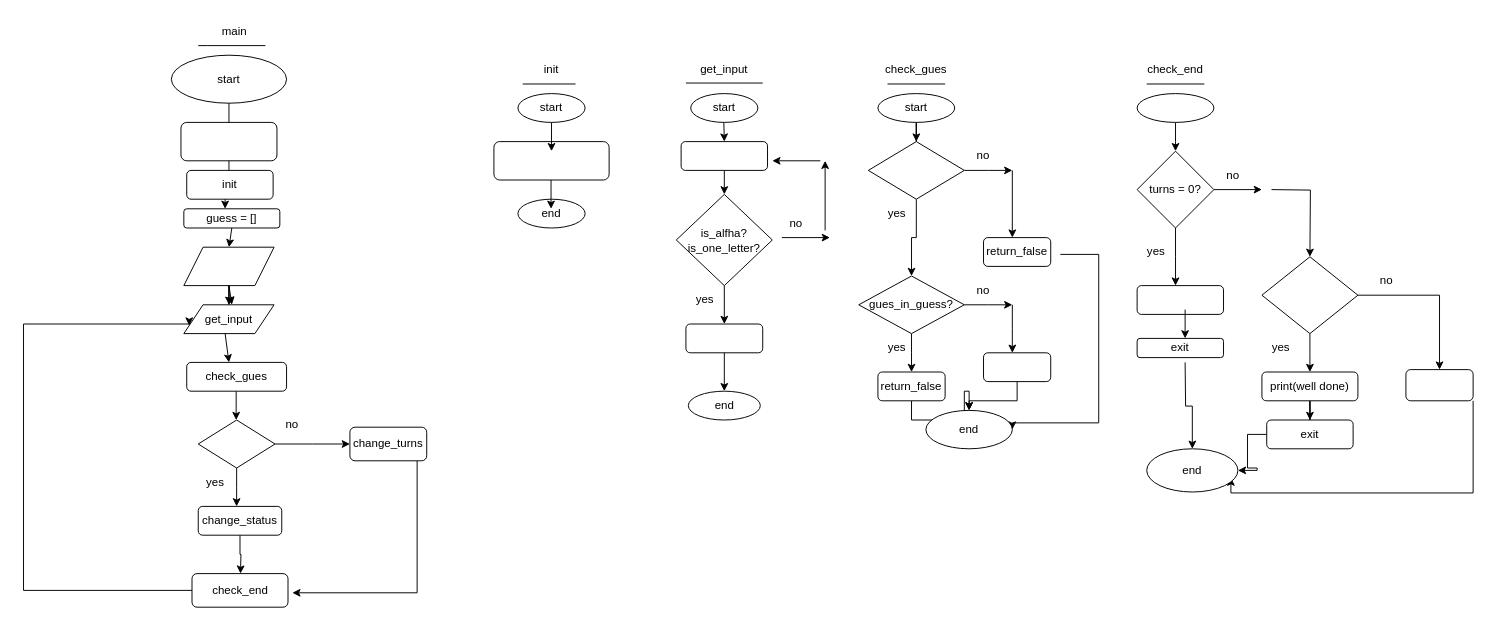
Image size: 1498x624. Some labels were removed from this diagram. The shapes that lost their labels are listed below. From the top down, each one's centre as x and y in pixels, then its label:
At pixel 1175 107: "stert".
At pixel 228 141: "words_list = []".
At pixel 551 160: "return_random_word".
At pixel 724 155: "input".
At pixel 915 170: "gues_in_word?".
At pixel 228 266: "print(rules)".
At pixel 1180 299: "print(you_faild)".
At pixel 1309 295: "word_complited?".
At pixel 724 338: "return input".
At pixel 1017 367: "return_true".
At pixel 1439 385: "return".
At pixel 236 443: "true?".
